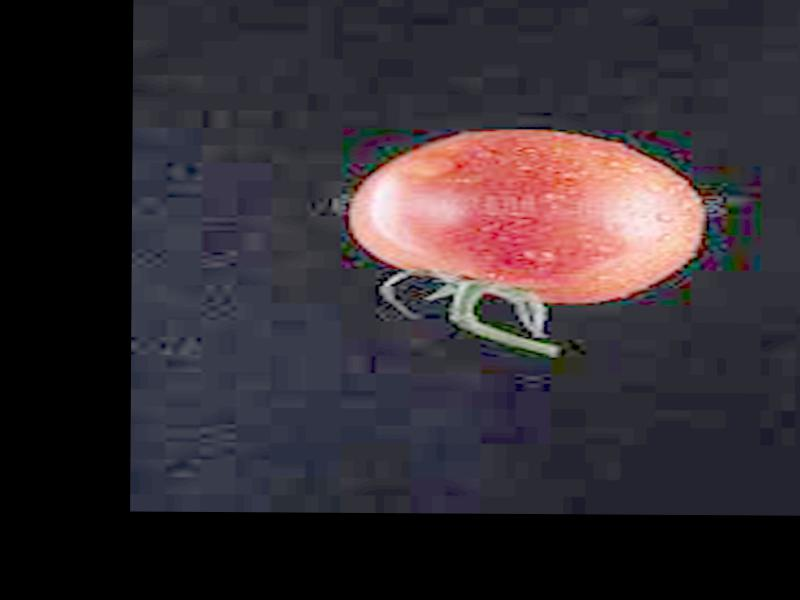Tomato: (350, 128, 705, 305)
